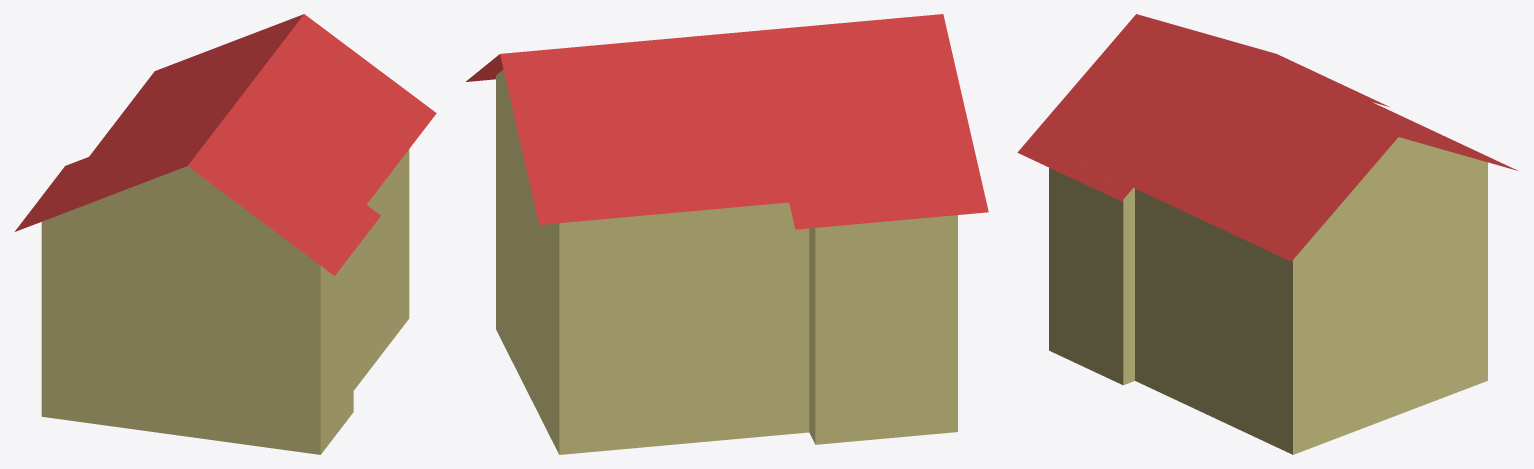
3 views of the same model, side by side, from view 1: azimuth 30°, elevation 25°; view 2: azimuth 150°, elevation 25°; view 3: azimuth 270°, elevation 25° (orthographic). The views are drawn at different scales.
Parts seen in each view (by area): view 1: group_5, group_3, group_4; view 2: group_5, group_3, group_4; view 3: group_5, group_3, group_4.
Part boxes in pixels (x1,y1,x2,y2): group_5: (41, 149, 409, 454); group_3: (42, 14, 436, 251); group_4: (15, 14, 380, 275); group_5: (496, 69, 957, 454); group_3: (500, 14, 979, 224); group_4: (466, 15, 988, 229); group_5: (1049, 137, 1487, 454); group_3: (1049, 14, 1517, 261); group_4: (1017, 14, 1428, 201).
Size of the model in its own units: 17.09 by 16.7 by 10.66.
